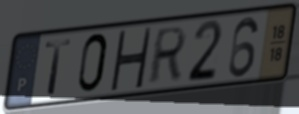0: (76, 31, 109, 96)
2: (188, 18, 225, 84)
6: (227, 14, 260, 80)
H: (108, 27, 154, 91)
R: (145, 24, 190, 87)
T: (43, 37, 74, 97)
